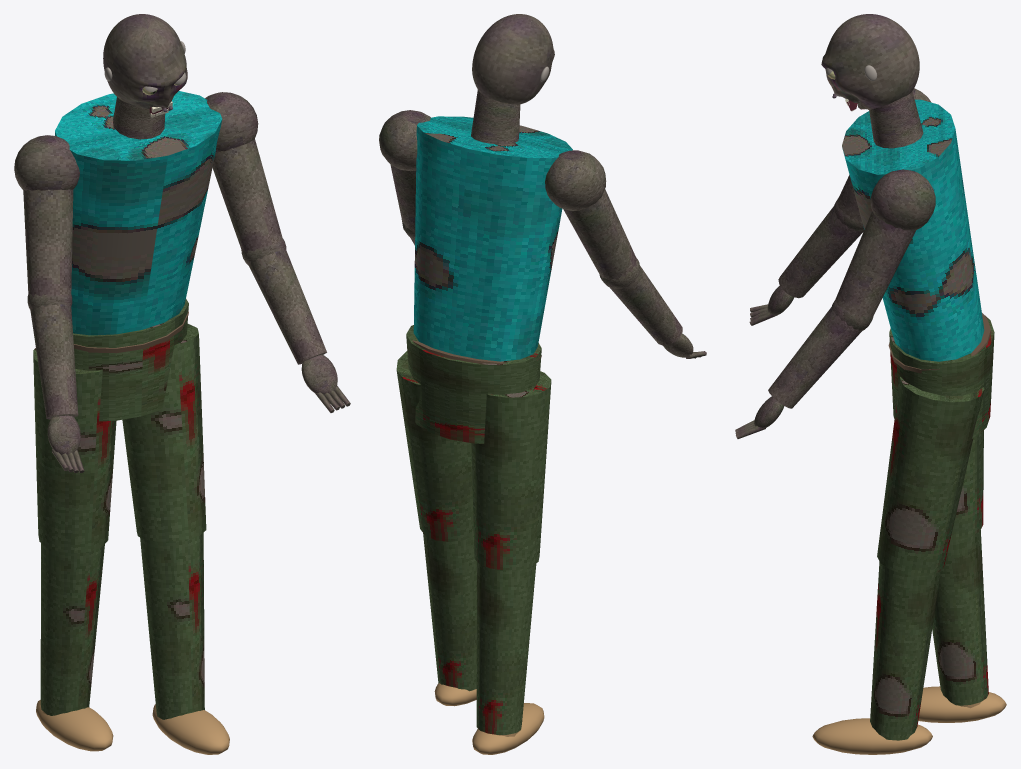
Rendered from Zombie_087.glb.
The picture shows the model from 3 angles, left to right: view 1: azimuth 30°, elevation 25°; view 2: azimuth 150°, elevation 25°; view 3: azimuth 270°, elevation 25°; orthographic projection. The views are drawn at different scales.
Parts seen in each view (by area): view 1: Zombie_087, object 16, object 3, object 10, object 11, object 4; view 2: Zombie_087, object 16, object 3; view 3: Zombie_087, object 16, object 10, object 3, object 11, object 9, object 4.
Boxes of the visible parts, box(x1,y1,x2,y2) form: Zombie_087: box(14, 91, 282, 754); object 16: box(103, 14, 187, 109); object 3: box(30, 304, 78, 419); object 10: box(248, 248, 326, 364); object 11: box(301, 354, 337, 394); object 4: box(47, 415, 80, 454); Zombie_087: box(379, 89, 636, 754); object 16: box(472, 14, 554, 104); object 3: box(610, 266, 682, 345); Zombie_087: box(812, 88, 1006, 754); object 16: box(821, 14, 919, 110); object 10: box(768, 307, 861, 408); object 3: box(778, 206, 863, 298); object 11: box(754, 396, 784, 427); object 9: box(831, 300, 873, 330); object 4: box(767, 285, 794, 315).
Size of the model in its own units: 0.7697 by 1.94 by 0.668.
15 materials, 5 textured.
